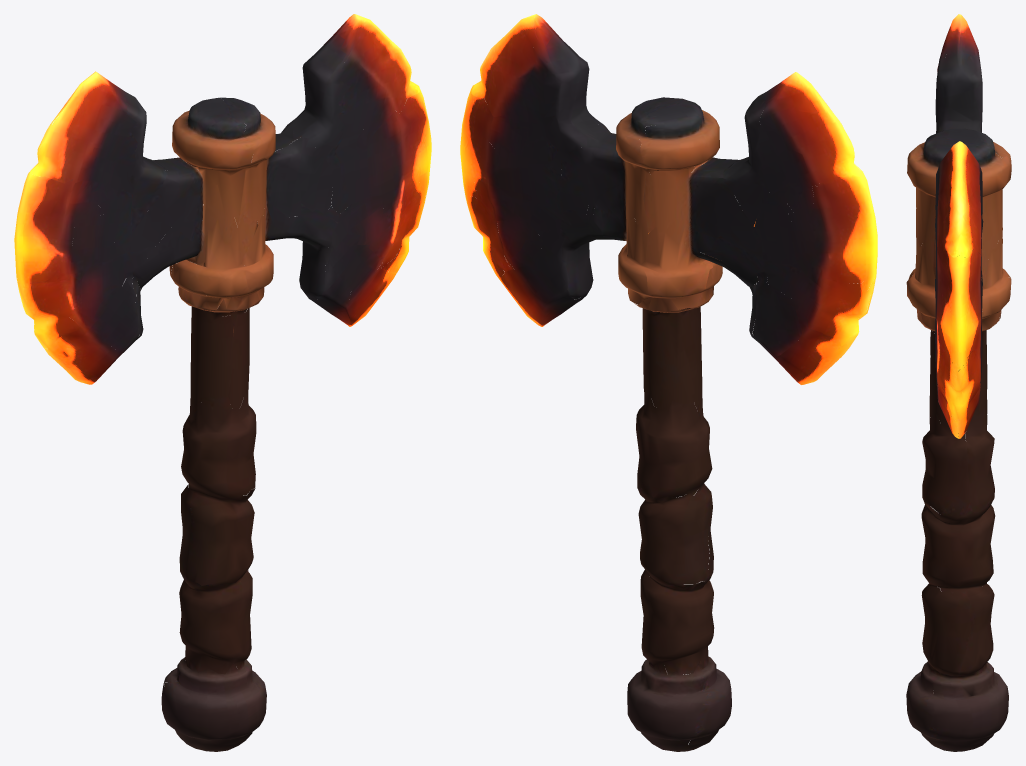
File: Arm_last_fire_axe-CGXZ15Yl.glb
The picture shows the model from 3 angles, left to right: view 1: azimuth 30°, elevation 25°; view 2: azimuth 150°, elevation 25°; view 3: azimuth 270°, elevation 25°; orthographic projection. The views are drawn at different scales.
Parts seen in each view (by area): view 1: Arm_last_fire_axe; view 2: Arm_last_fire_axe; view 3: Arm_last_fire_axe.
Part boxes in pixels (bbox=[...]): Arm_last_fire_axe: bbox=[14, 14, 431, 751]; Arm_last_fire_axe: bbox=[460, 14, 877, 751]; Arm_last_fire_axe: bbox=[906, 14, 1011, 751].
Bounding box in the file's own units: 1.02 × 1.65 × 0.2323.
Materials: 1 (1 with a texture image).
